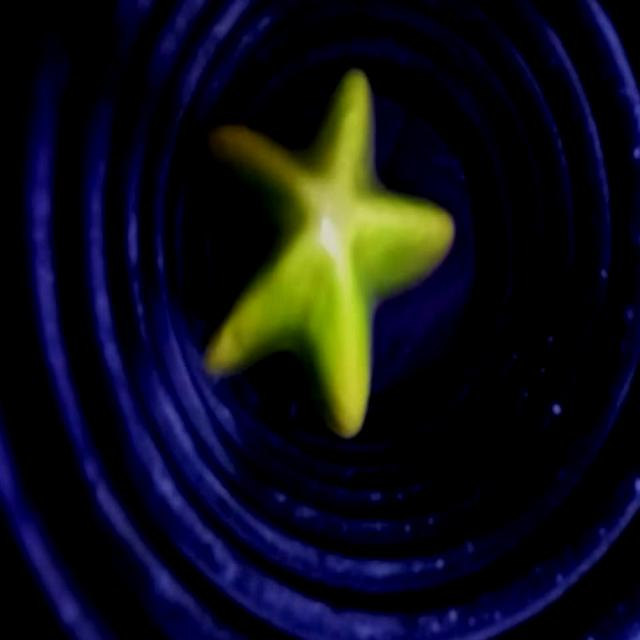block: (256, 98, 477, 387)
obstacles: (190, 72, 458, 443)
